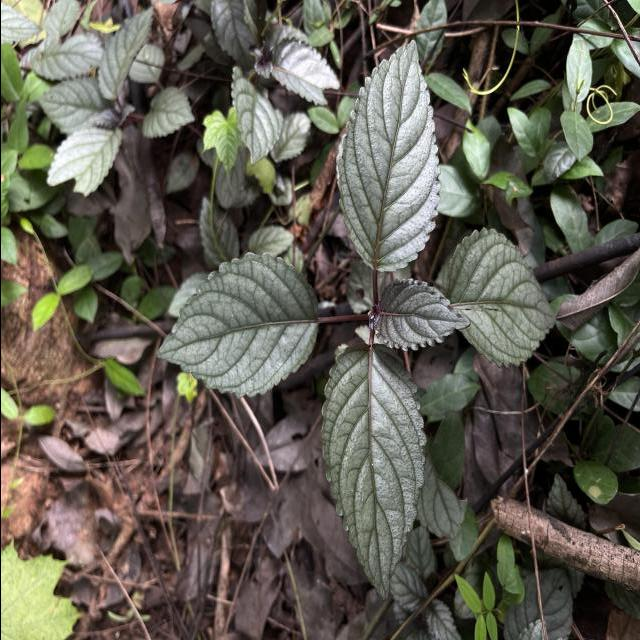Hemigraphis colorata: (318, 340, 428, 608), (330, 34, 443, 276), (152, 250, 322, 400), (443, 224, 557, 372), (367, 276, 472, 356)
